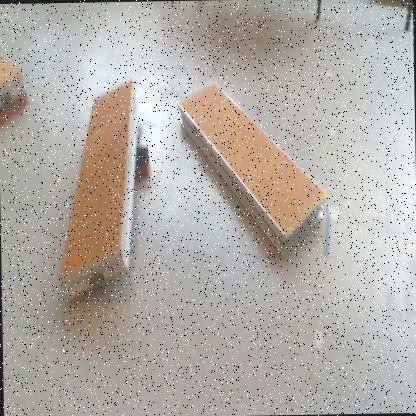Stairs: (178, 82, 326, 258), (59, 81, 140, 303), (1, 57, 25, 110)
